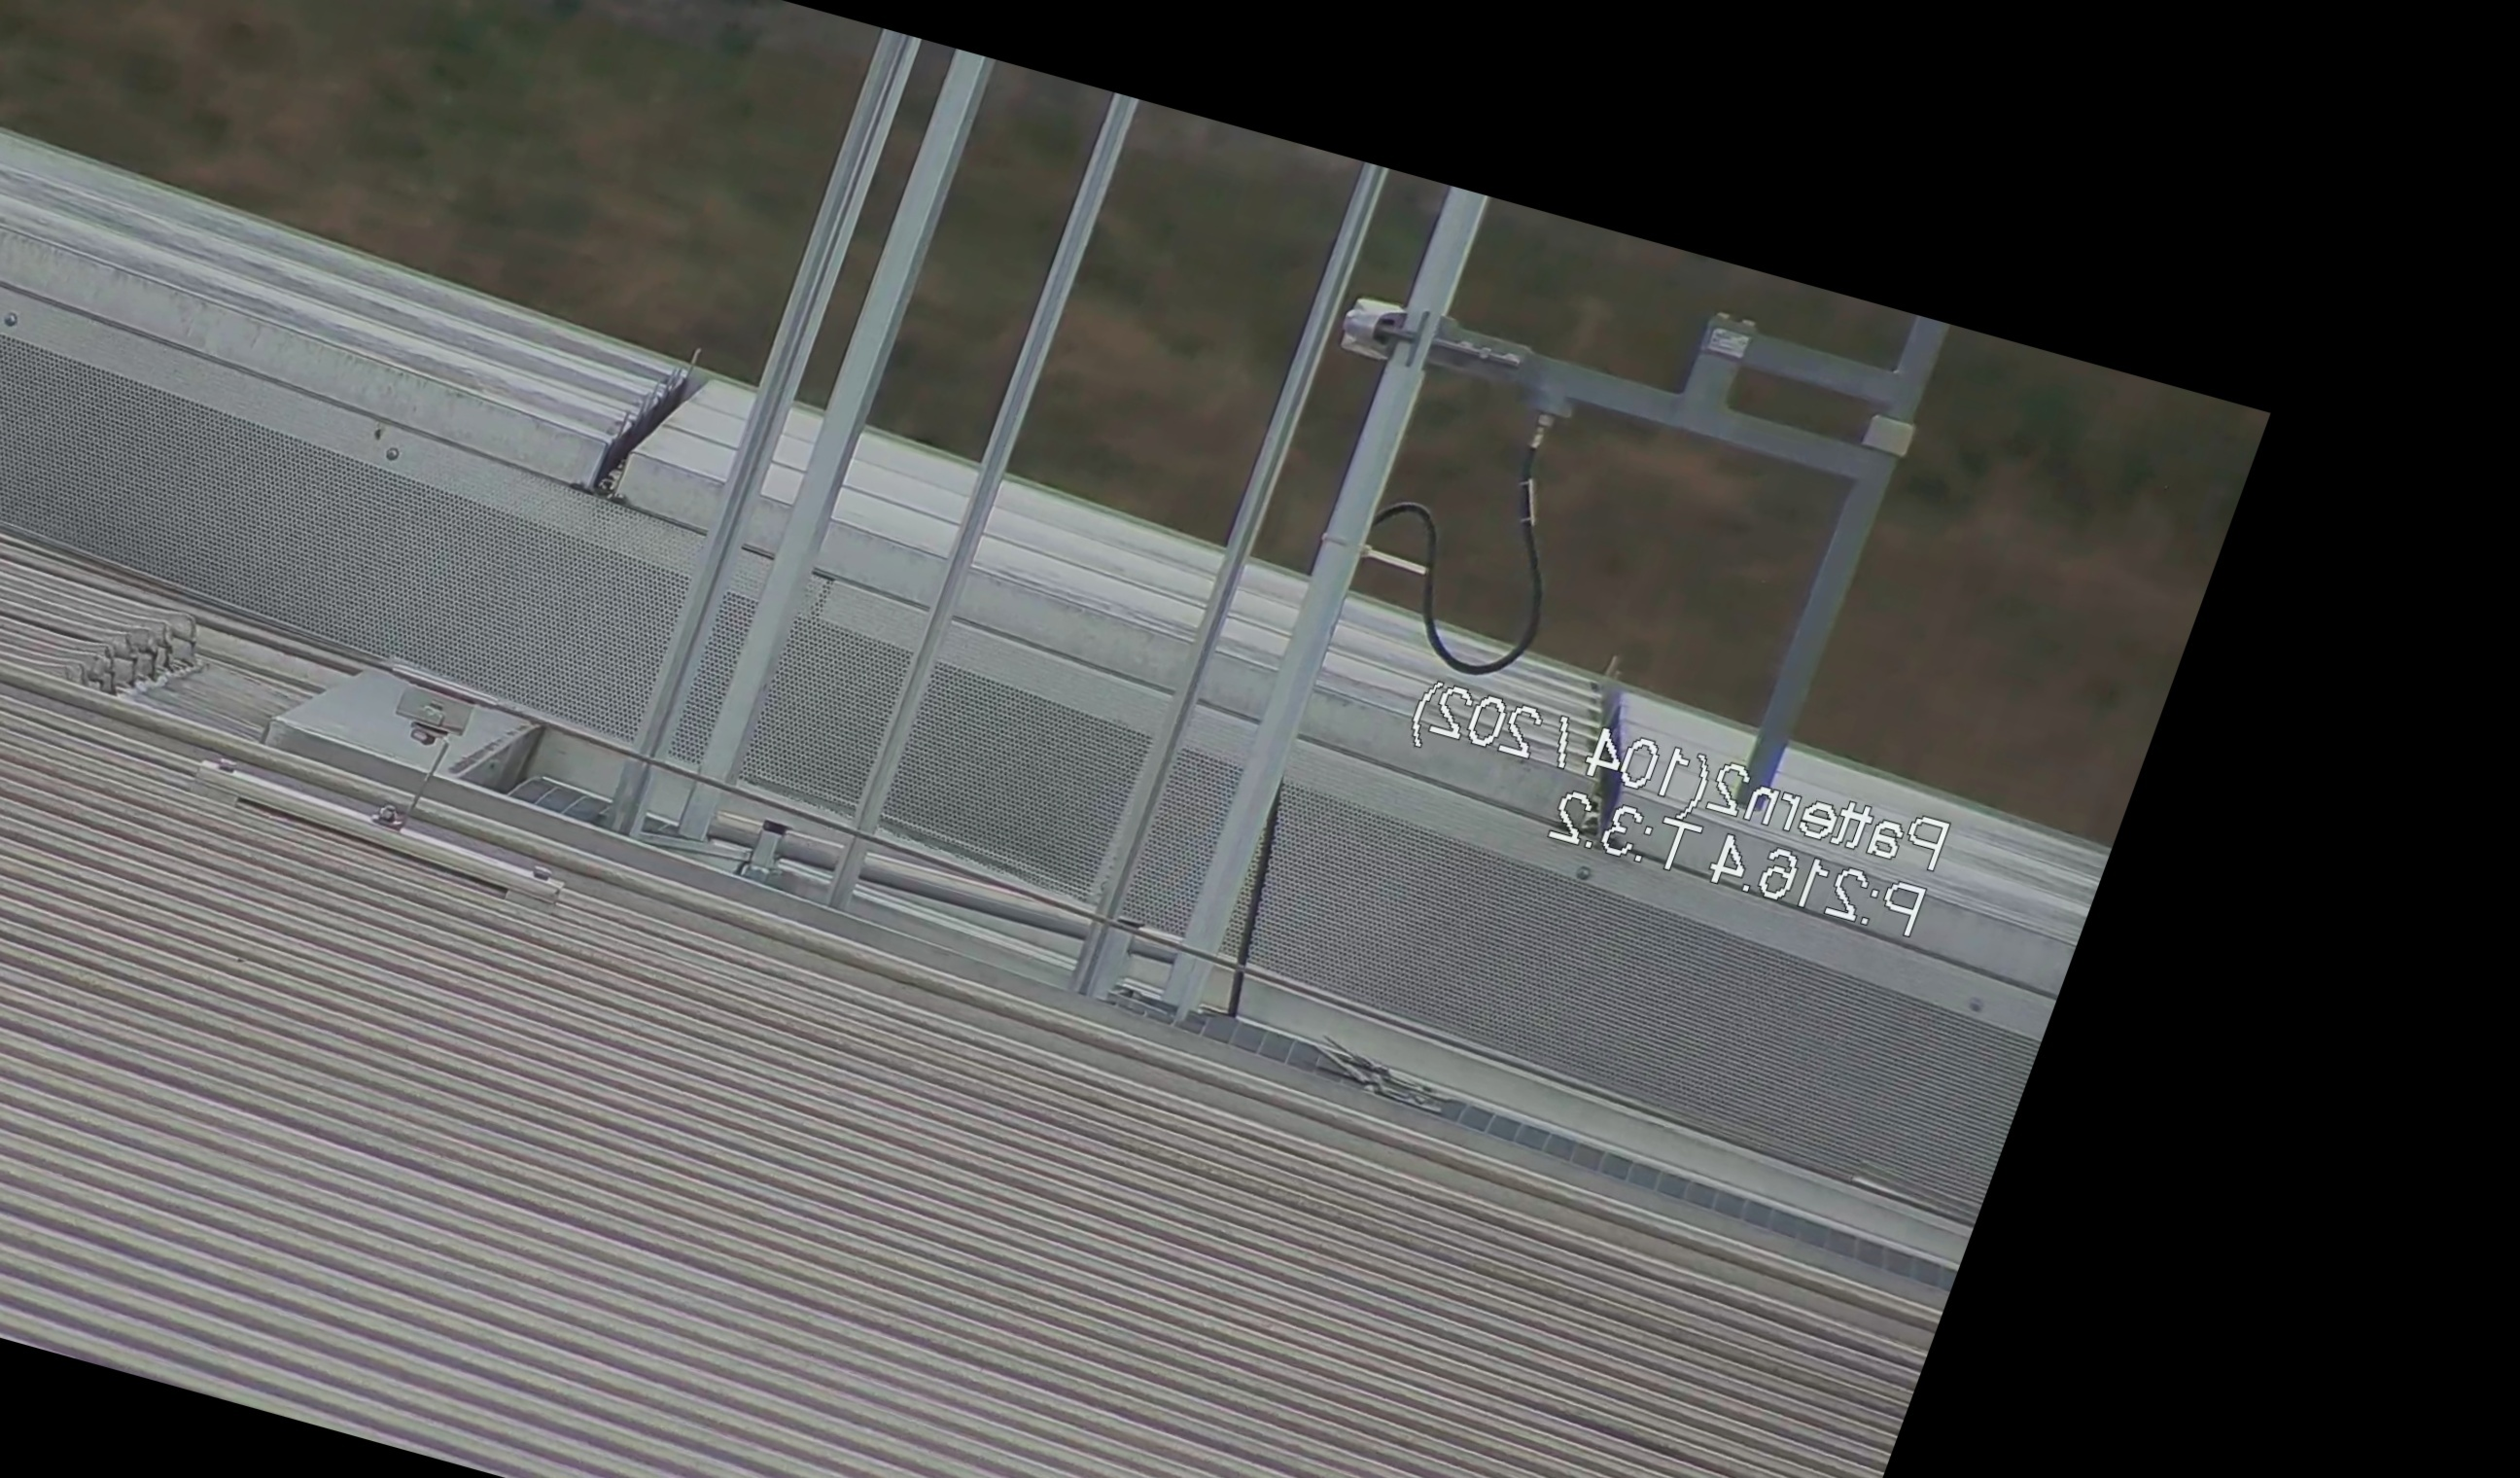Other: (568, 322, 732, 519)
